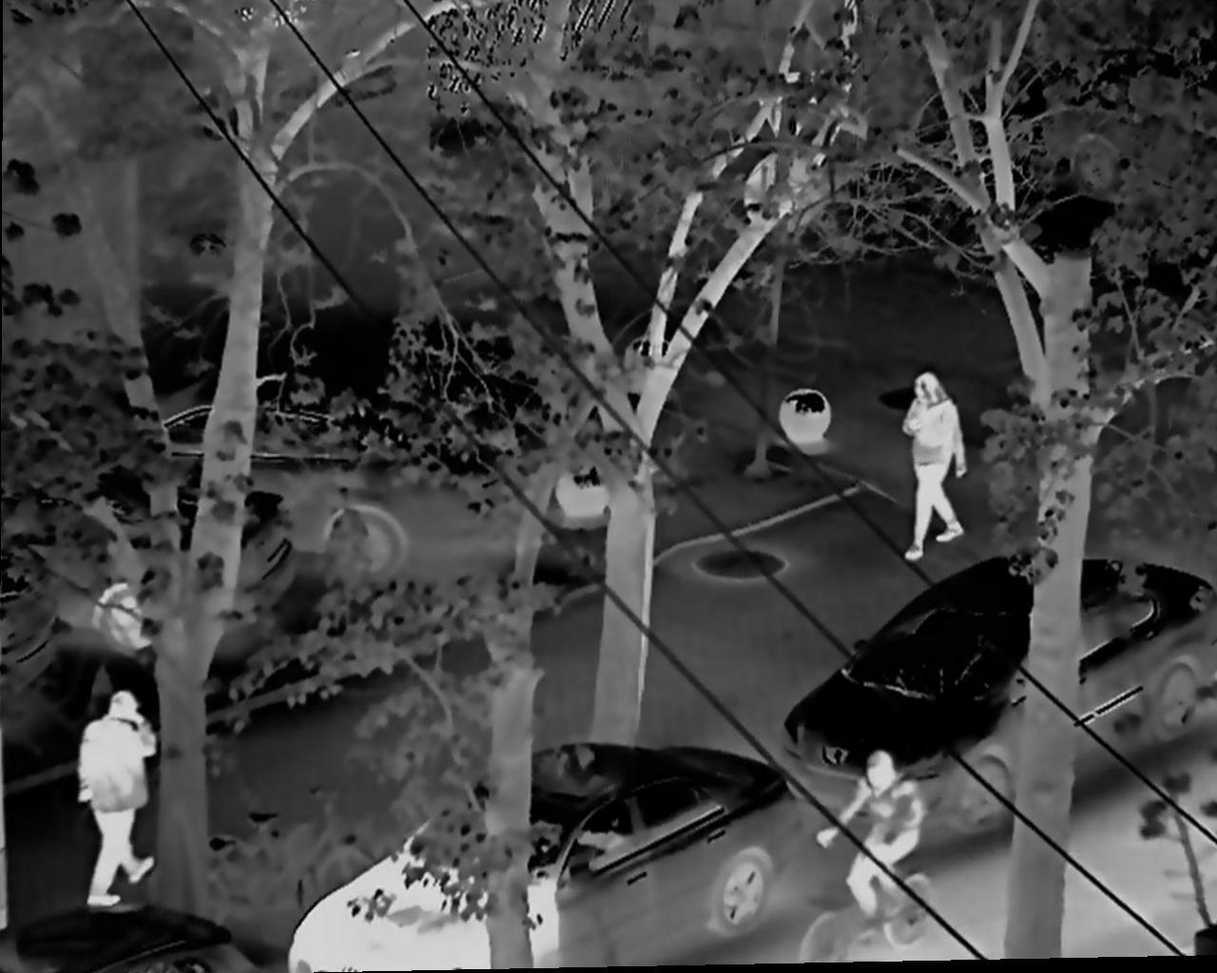person: (812, 752, 926, 941), (73, 683, 154, 901), (892, 367, 968, 563)
